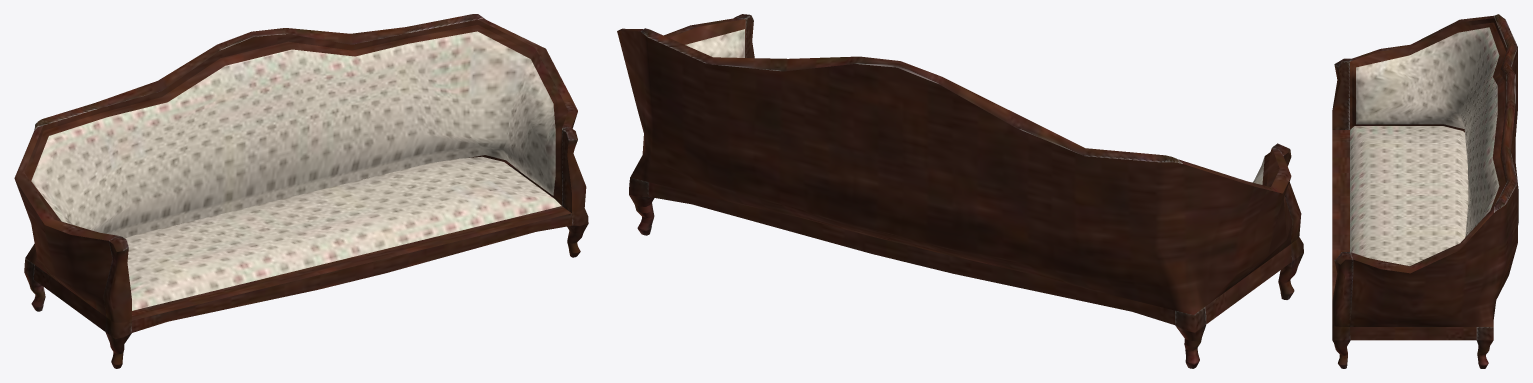
File: OBJ_Couch_01.fbx
3 renders of one model, left to right at view 1: azimuth 30°, elevation 25°; view 2: azimuth 150°, elevation 25°; view 3: azimuth 270°, elevation 25°, orthographic. The views are drawn at different scales.
Parts seen in each view (by area): view 1: couch; view 2: couch; view 3: couch.
Part boxes in pixels (<box>): couch: <box>14,14,588,368</box>; couch: <box>617,14,1303,368</box>; couch: <box>1332,14,1518,368</box>.
Size of the model in its own units: 6.74 by 2.56 by 2.31.
